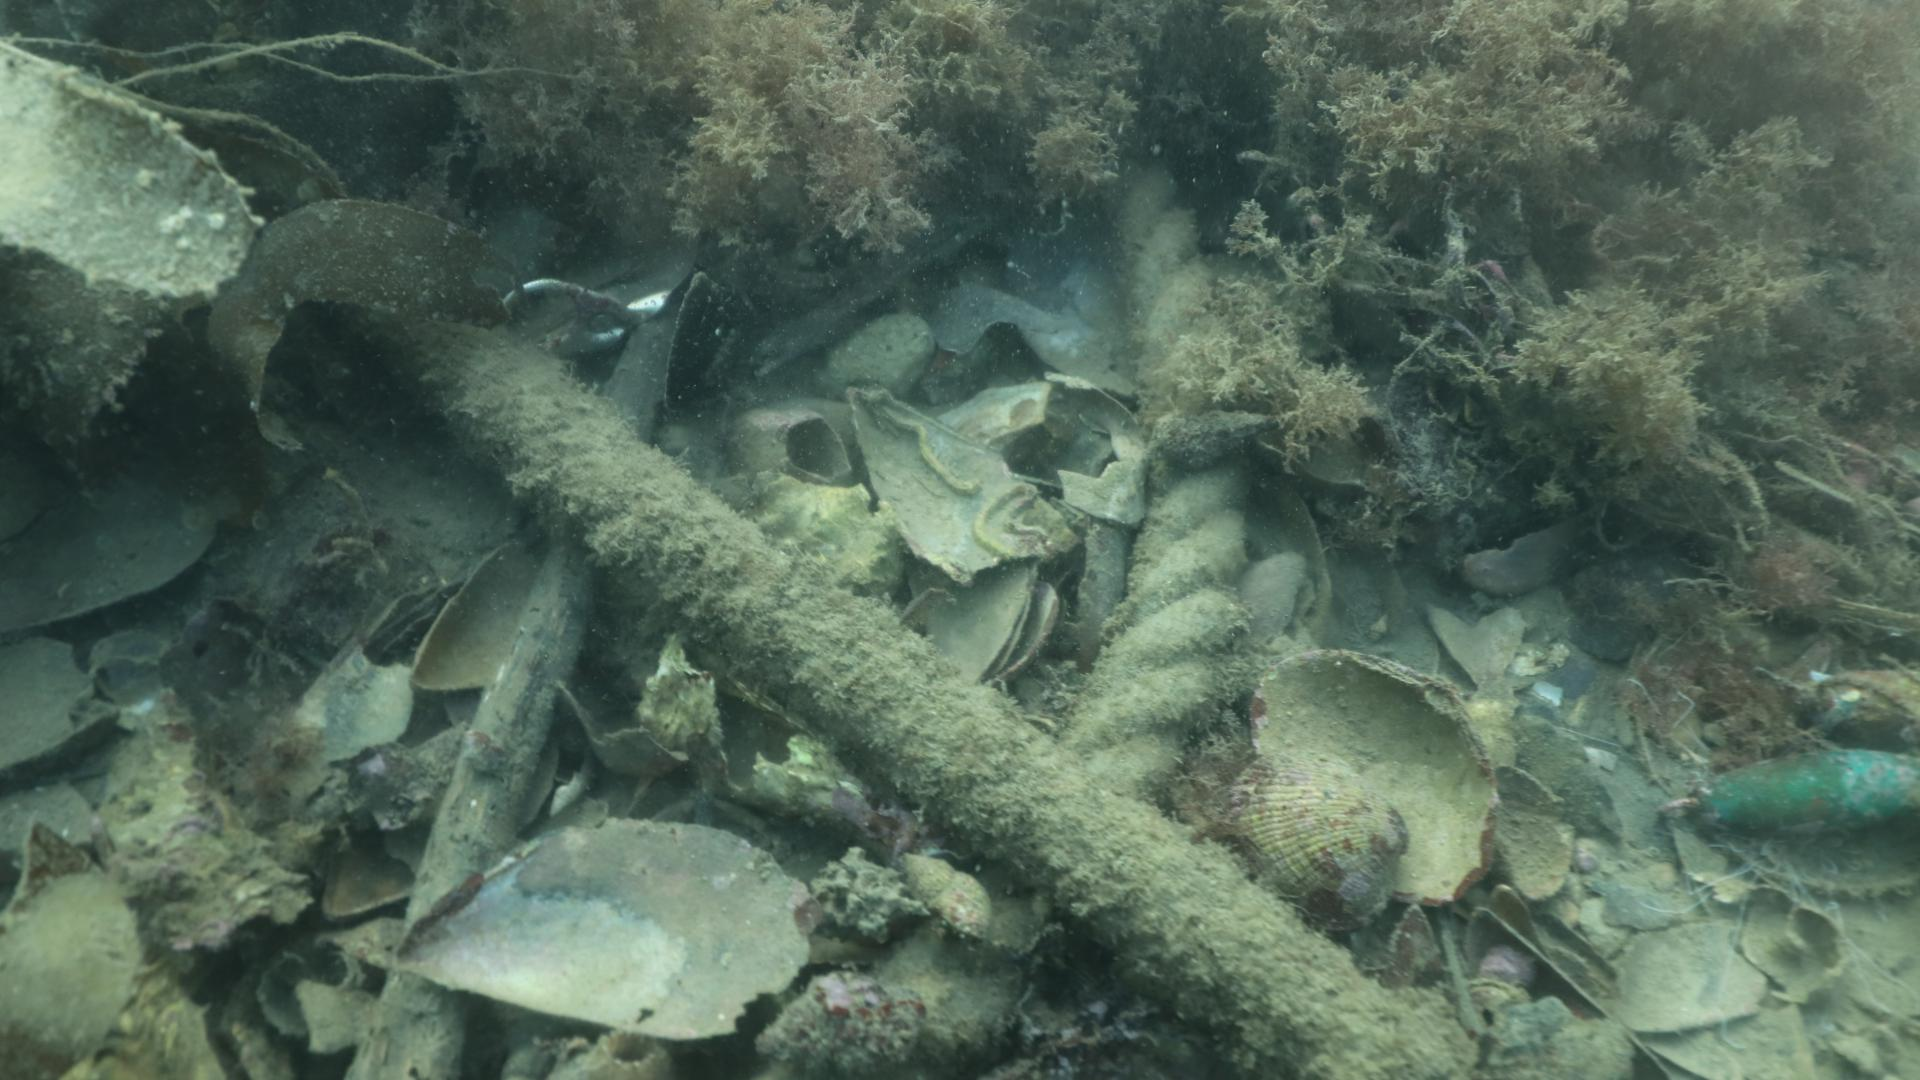rope: (353, 301, 1436, 1080), (783, 129, 1250, 1080)
